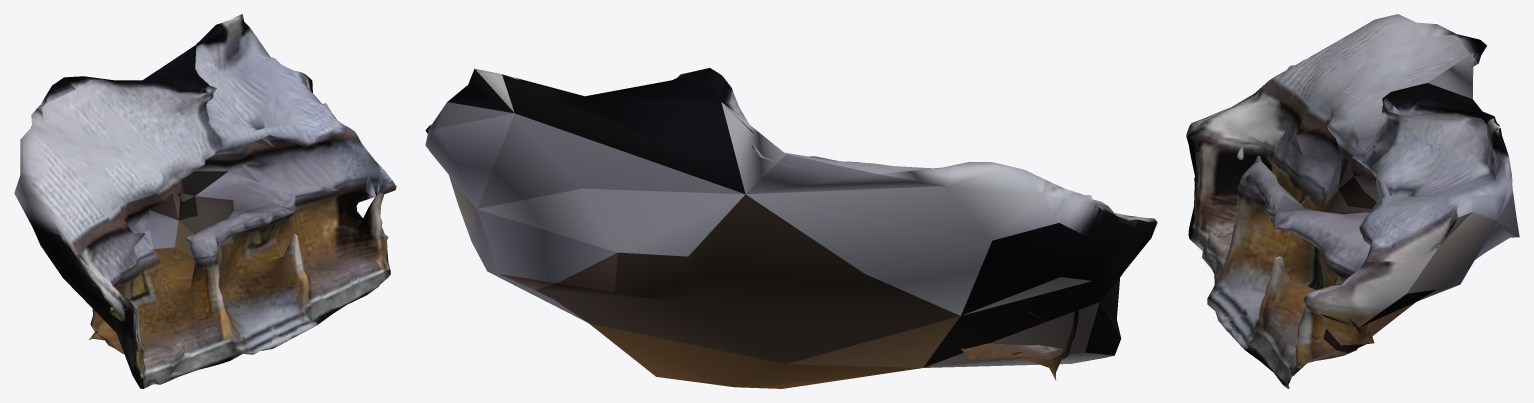
3 views of the same model, side by side, from view 1: azimuth 30°, elevation 25°; view 2: azimuth 150°, elevation 25°; view 3: azimuth 270°, elevation 25° (orthographic). The views are drawn at different scales.
Size of the model in its own units: 1000 by 618 by 728.
1 material, 1 textured.
